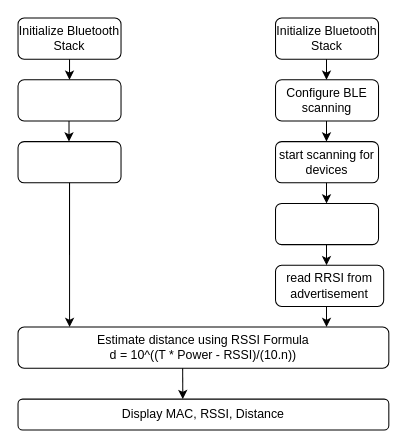
Image size: 407x448. Some labels were removed from this diagram. The shapes that lost their labels are listed below. From the top down, each one's centre as x and y in pixels, then its label:
At point (69, 100): "Configure BLE Advertisement".
At point (69, 162): "Start Advertising Packets".
At point (326, 223): "check target MAC address".
